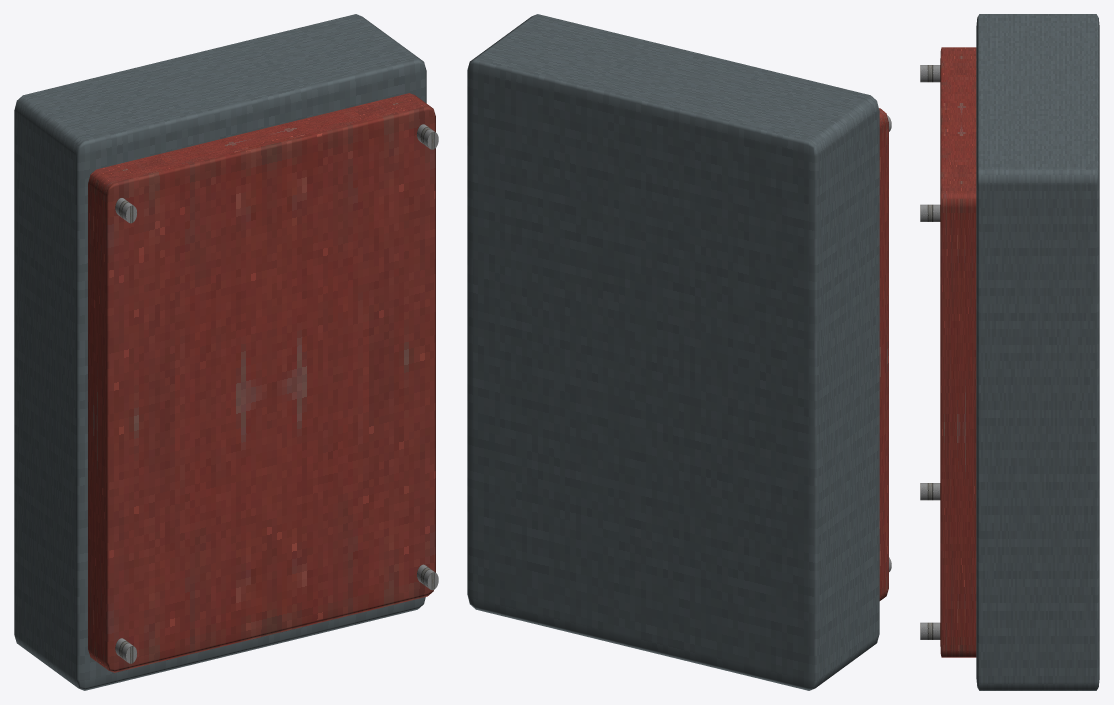
Rendered from strobe.glb.
3 renders of one model, left to right at view 1: azimuth 30°, elevation 25°; view 2: azimuth 150°, elevation 25°; view 3: azimuth 270°, elevation 25°, orthographic. The views are drawn at different scales.
Parts seen in each view (by area): view 1: face, back; view 2: back, face; view 3: back, face, pin (×4).
Part boxes in pixels (x1,y1,x2,y2): face: (88,93,435,672); back: (14,14,426,690); back: (467,14,879,690); face: (879,108,888,600); back: (976,14,1099,690); face: (940,47,976,657); pin (×4): (920,65,940,639).
Size of the model in its own units: 0.12 by 0.18 by 0.056.
Materials: 3 (3 with a texture image).
